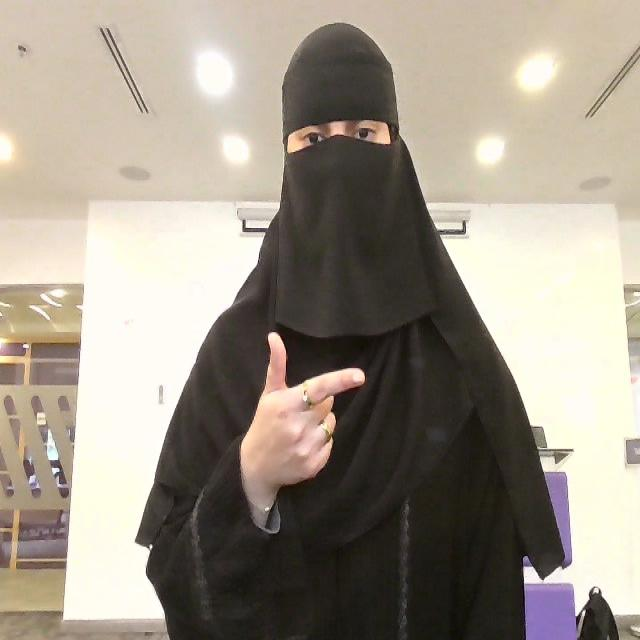dispensing: (239, 330, 365, 510)
